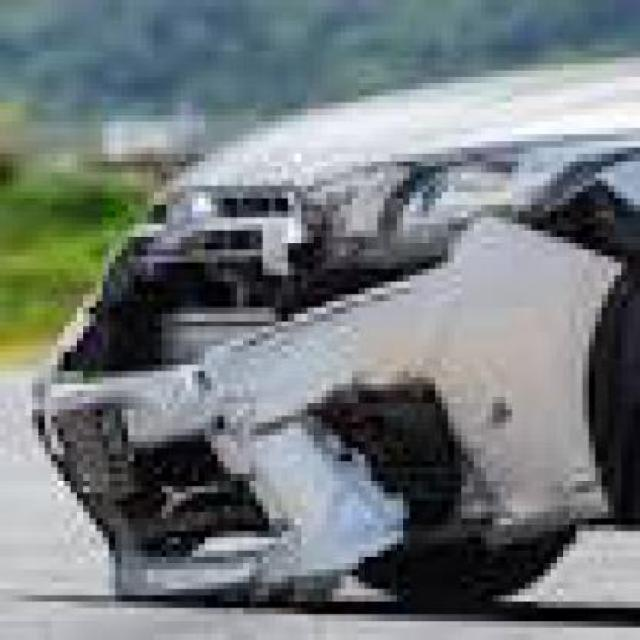damaged-front-bumper: (33, 249, 616, 594)
